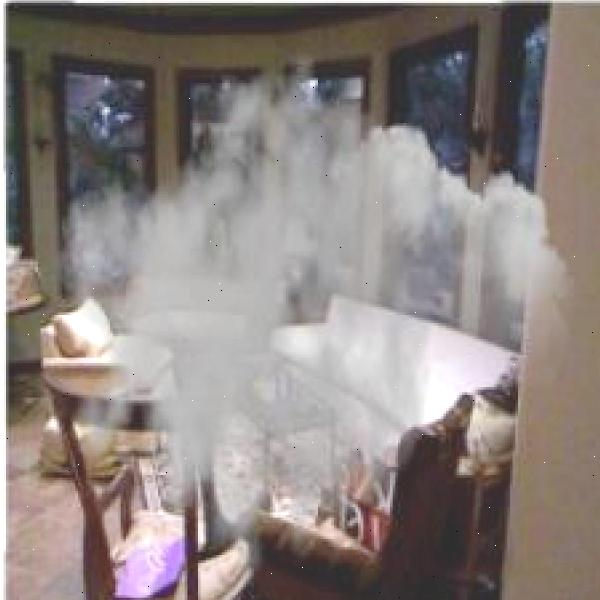smoke: (56, 52, 576, 600)
